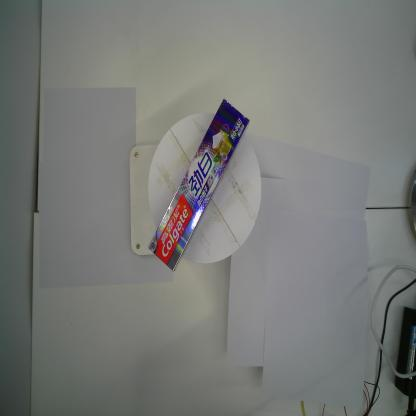Personal Hygiene: (146, 98, 251, 270)
